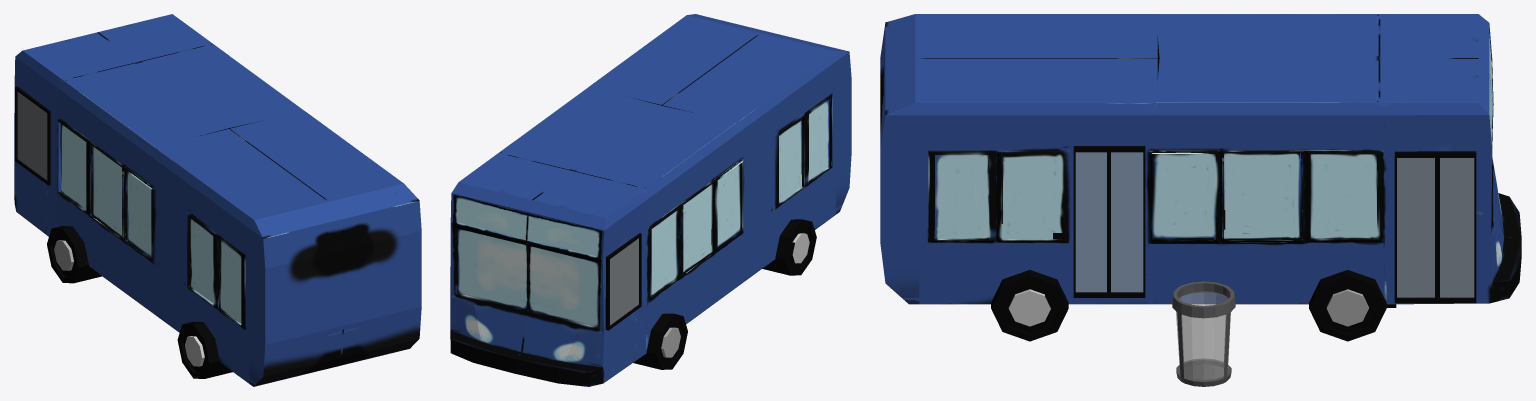
The model's file is busV3.fbx.
3 renders of one model, left to right at view 1: azimuth 30°, elevation 25°; view 2: azimuth 150°, elevation 25°; view 3: azimuth 270°, elevation 25°, orthographic. The views are drawn at different scales.
Visible parts, largest first — view 1: Bus, Wheels, Window; view 2: Bus, Wheels, Window; view 3: Bus, Doors, Wheels, Trashcan.
Part boxes in pixels (x1,y1,x2,y2): Bus: (14,14,421,386); Wheels: (47,226,232,378); Window: (15,86,50,185); Bus: (450,14,851,386); Wheels: (633,219,816,369); Window: (605,233,641,330); Bus: (880,14,1521,304); Doors: (1073,146,1476,303); Wheels: (991,270,1386,341); Trashcan: (1172,281,1235,386).
Bounding box in the file's own units: 1378 × 905 × 2281.
